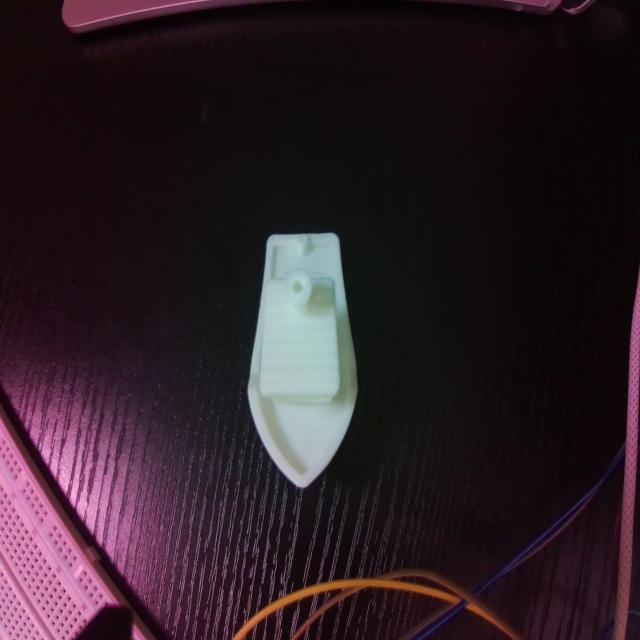ship: (247, 230, 358, 490)
